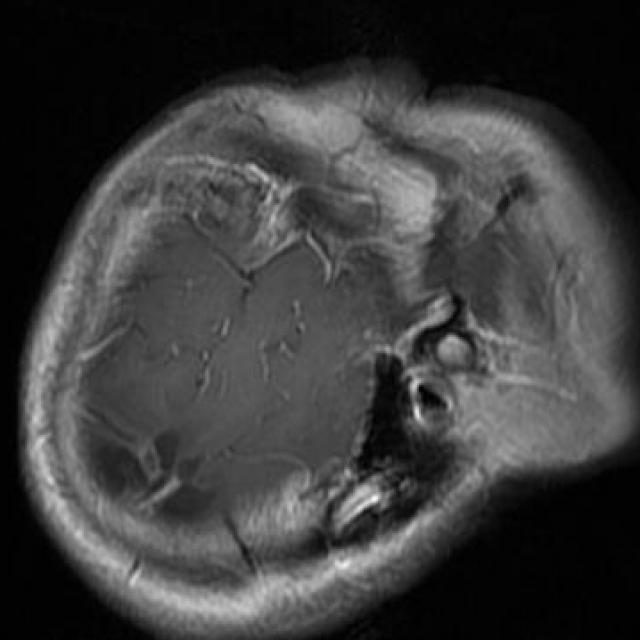glioma: (91, 430, 214, 526)
